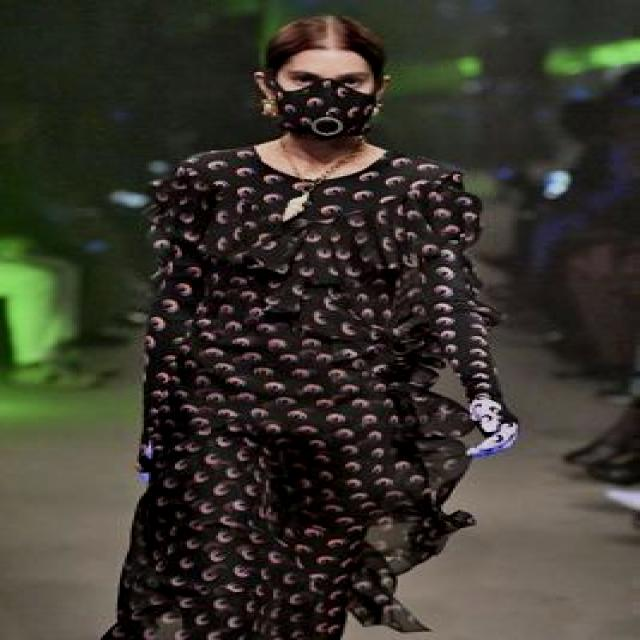face_mask: (266, 62, 374, 138)
hand_glove: (455, 390, 525, 460)
person: (156, 14, 506, 640), (273, 14, 384, 69)
